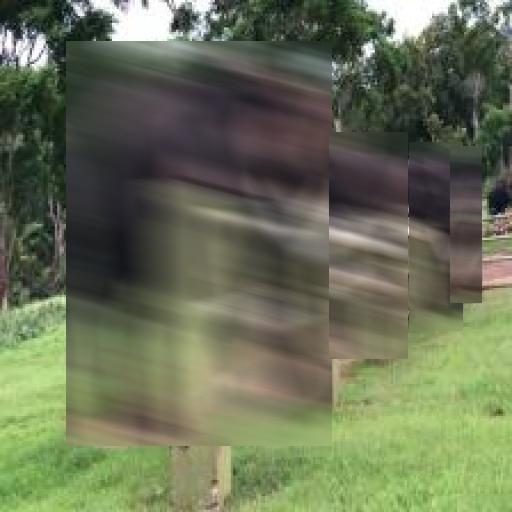Elephant: (66, 41, 332, 446), (329, 132, 408, 359), (409, 142, 463, 331), (450, 146, 482, 303)
